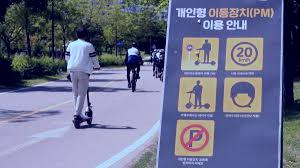nonhelmet: (64, 27, 96, 130)
